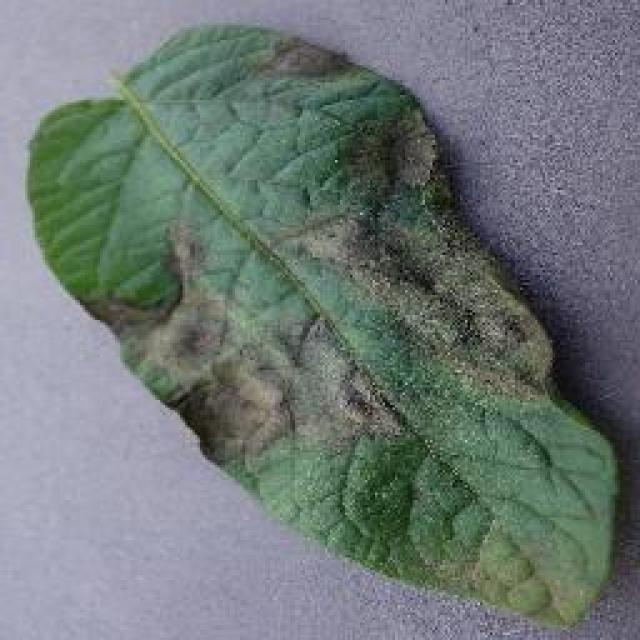Late_blight: (24, 18, 582, 547)
